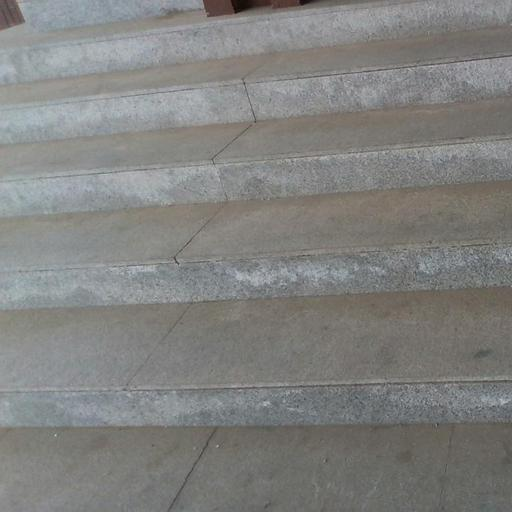stairs: (0, 0, 511, 426)
